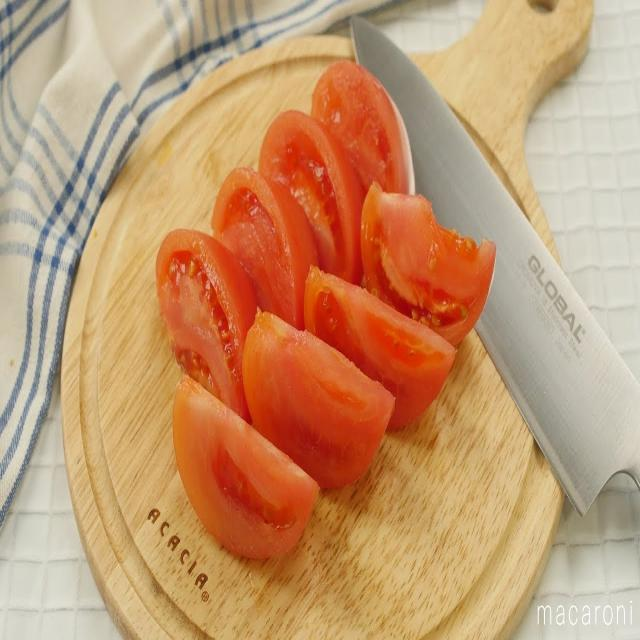Tomato: (235, 299, 394, 495), (169, 372, 321, 565), (301, 258, 459, 440), (354, 180, 499, 354), (152, 227, 260, 426), (255, 106, 366, 284), (209, 162, 322, 336), (308, 58, 412, 210)
